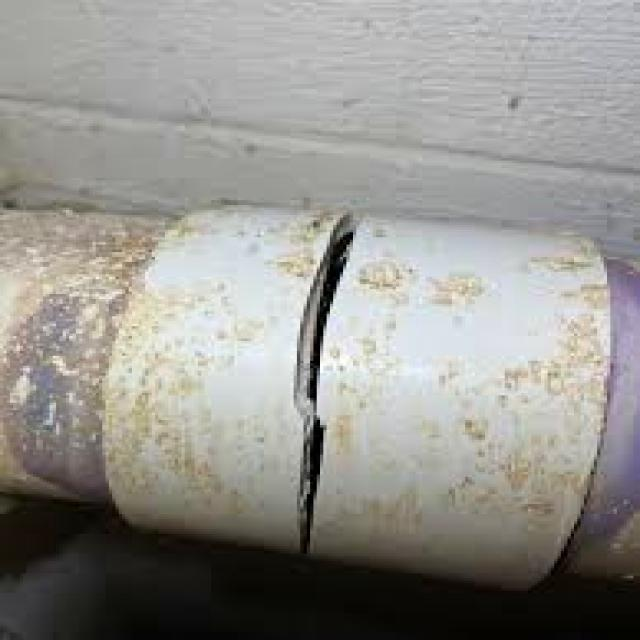crack: (288, 219, 367, 567)
